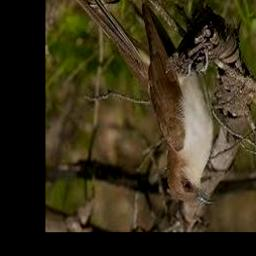Cuckoo: (140, 4, 217, 206)
